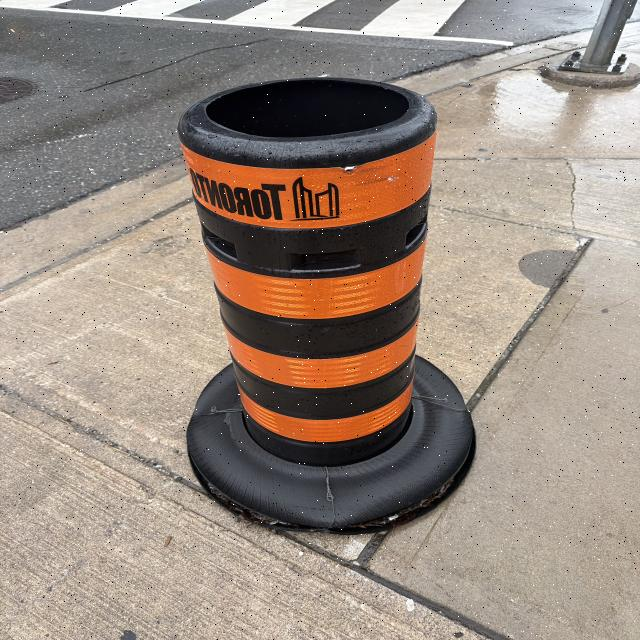Teraffic Barrel: (178, 79, 474, 532)
